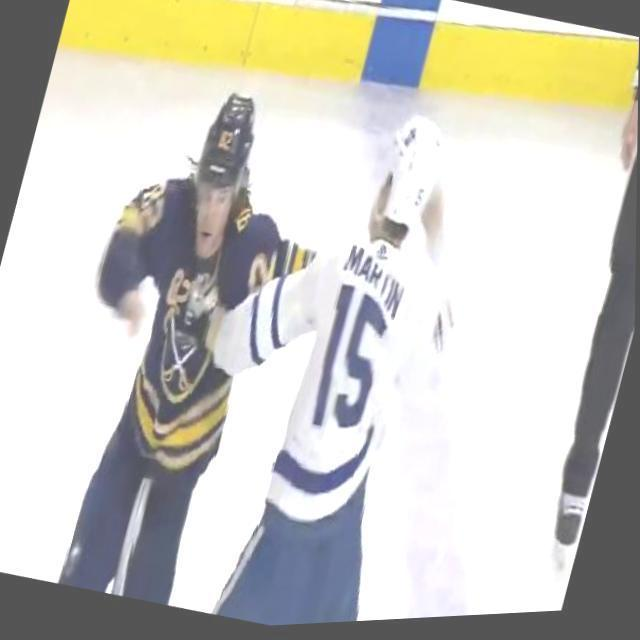fight: (16, 45, 506, 639)
